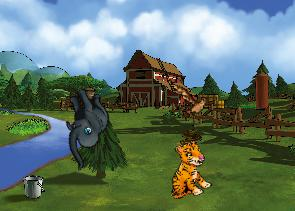eagle: (167, 81, 217, 121)
elephant: (43, 82, 126, 170)
tiger: (156, 138, 217, 204)
